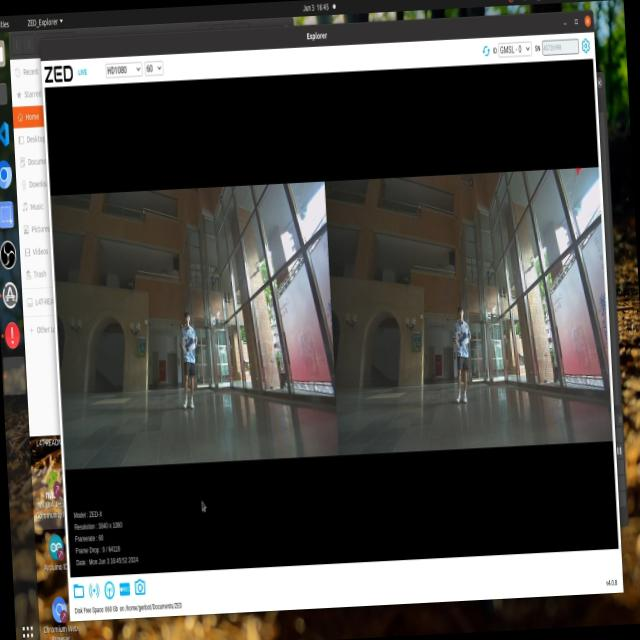blue: (178, 323, 196, 357), (456, 332, 472, 354)
